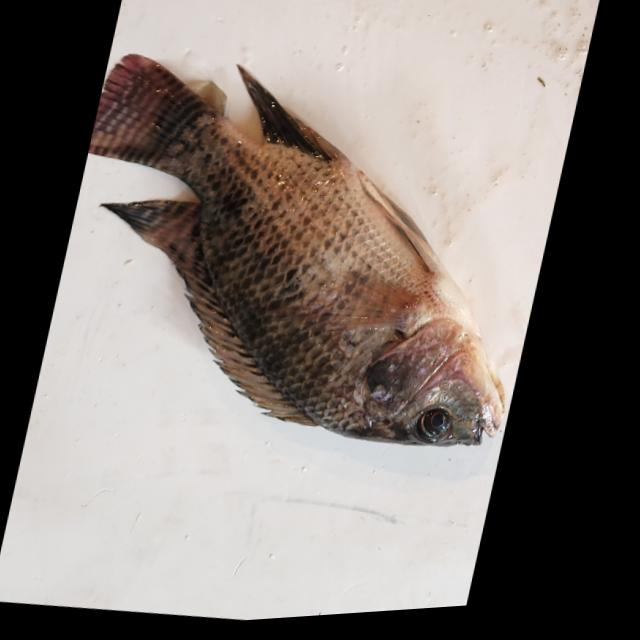Tilapia: (24, 14, 584, 484)
